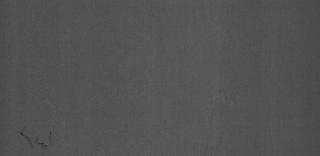water spot: (15, 123, 61, 155)
